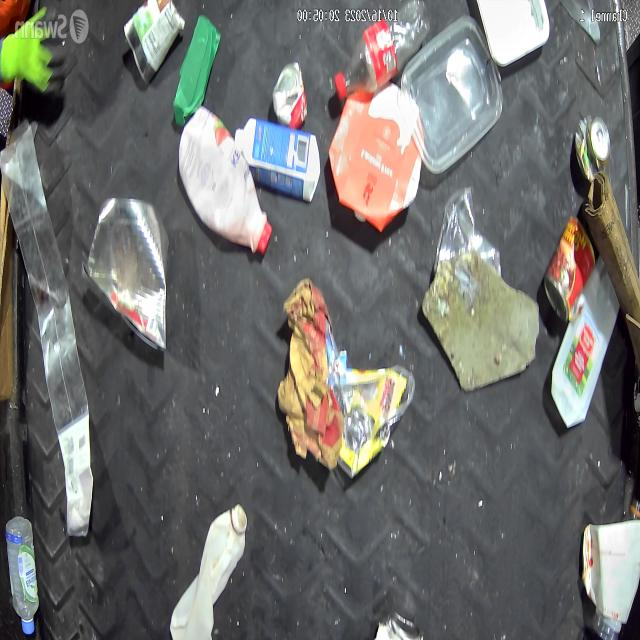can: (81, 194, 169, 354), (543, 212, 596, 324), (271, 60, 308, 130)
milk_jug: (169, 504, 249, 640)
non_white_jug: (176, 106, 272, 258), (327, 89, 422, 234), (235, 118, 321, 203)
plastic_bottle: (334, 0, 430, 99), (4, 514, 40, 636)
